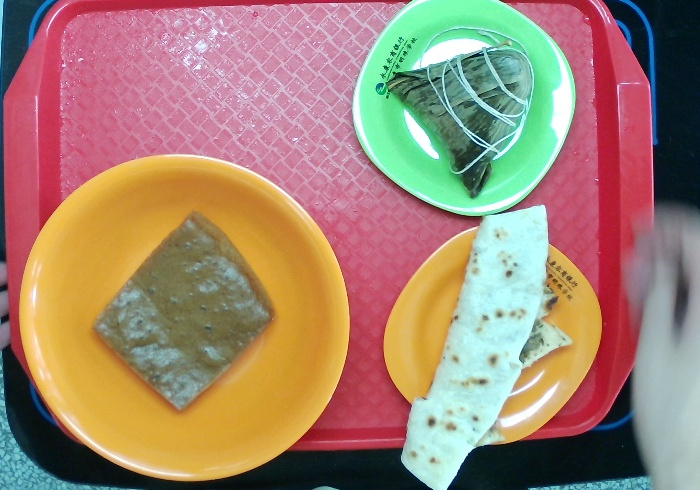YKMZ-Ju_Se_Fang_Die: (381, 222, 604, 448)
YKMZ-Ju_Se_Tang_Wan: (16, 153, 353, 483)
YKMZ-Lv_Se_Fang_Die: (348, 1, 577, 218)
